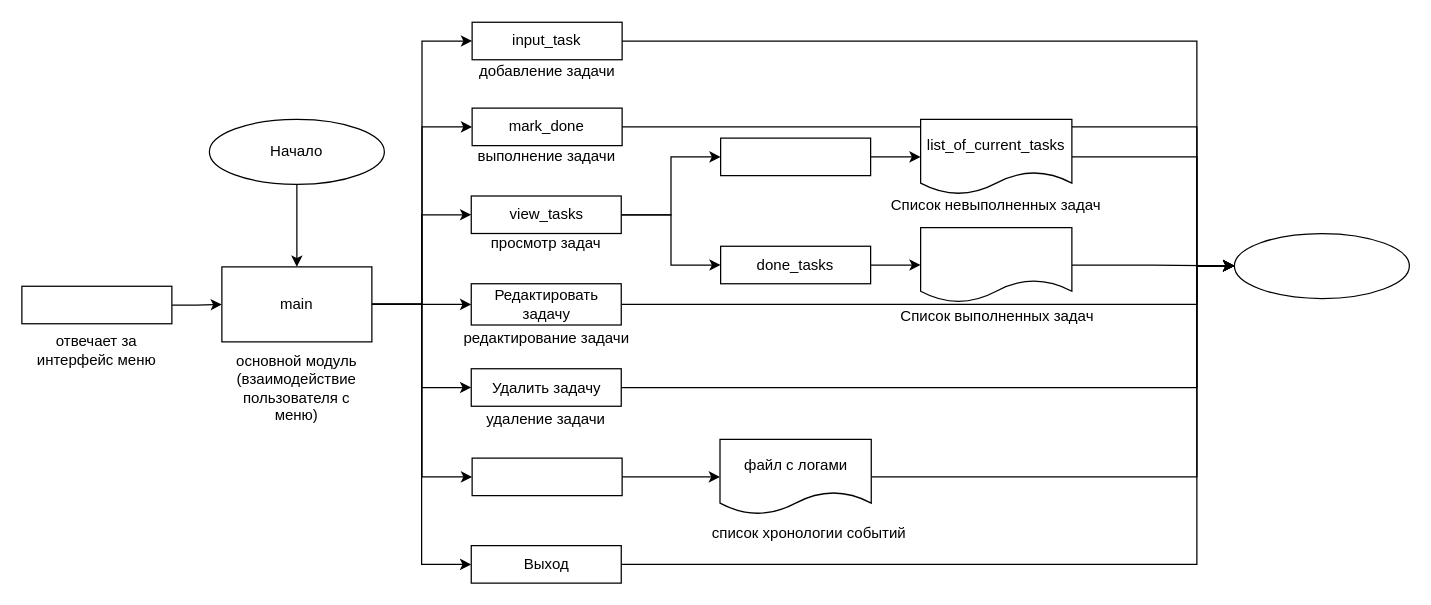
This 1431x605 diagram has some shape labels left out. The shapes that lost their labels are listed below. From the top down, each one's box as (x1, y1, x2, y2) in pixels, then its label:
(719, 137, 871, 176): current_tasks
(919, 226, 1072, 302): list_of_done_tasks
(1233, 232, 1409, 298): Конец
(21, 285, 172, 324): user_menu
(471, 457, 622, 496): Логирование
